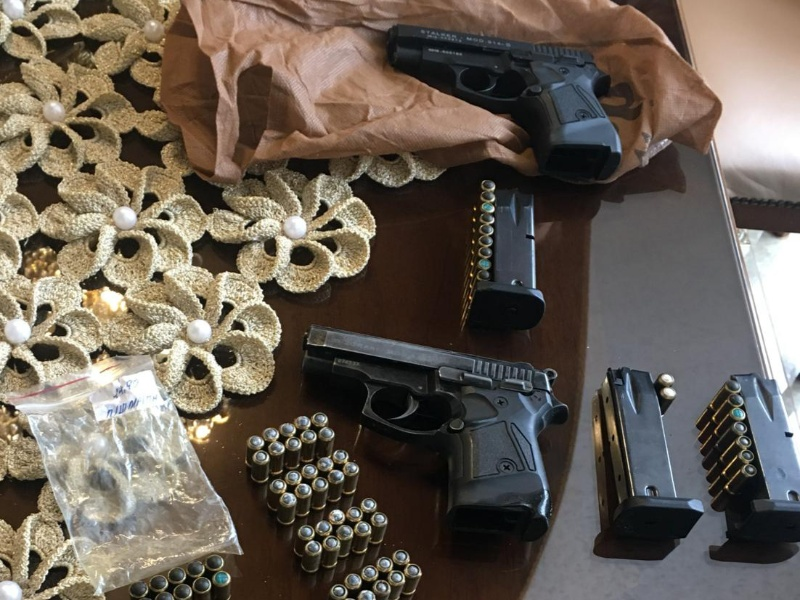weapon: (300, 323, 569, 536), (385, 24, 623, 181)
